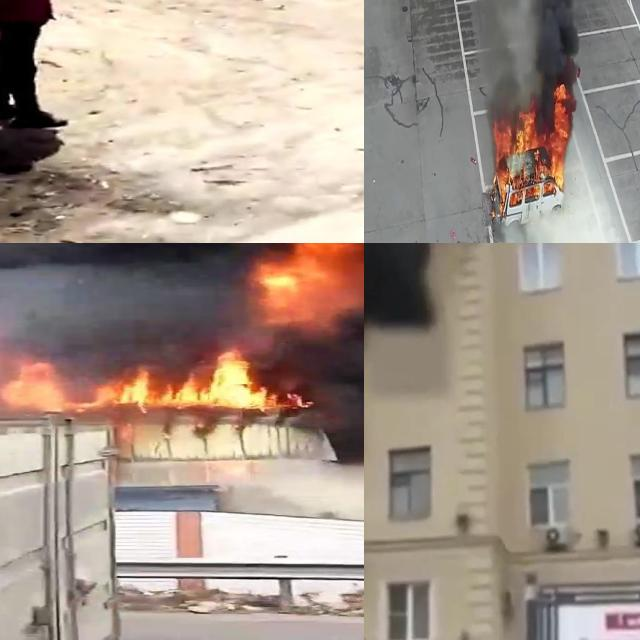fire: (0, 351, 290, 409), (489, 82, 573, 210), (250, 243, 364, 323)
smoke: (0, 243, 244, 367), (464, 0, 598, 82), (364, 243, 428, 369), (314, 303, 364, 440)
